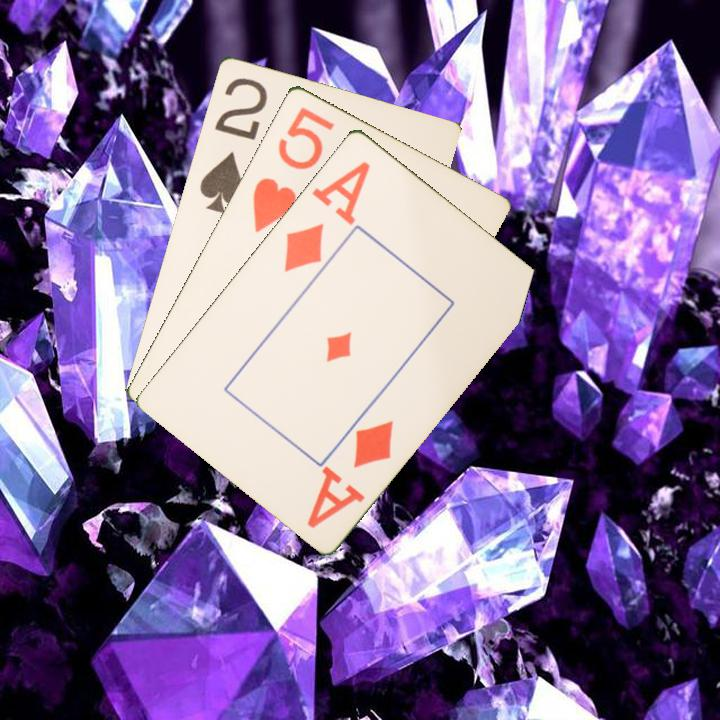2s: (195, 73, 270, 216)
5h: (248, 102, 338, 235)
Ad: (280, 157, 374, 275), (303, 415, 397, 531)
